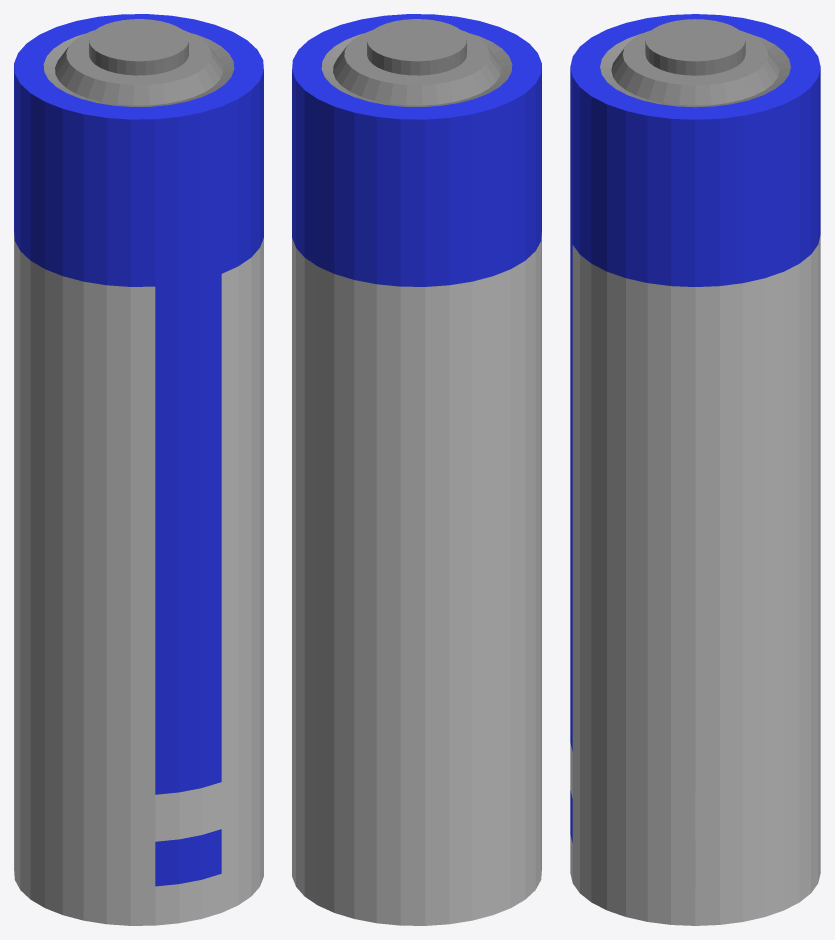
File: 1.5VBattery.glb
The picture shows the model from 3 angles, left to right: view 1: azimuth 30°, elevation 25°; view 2: azimuth 150°, elevation 25°; view 3: azimuth 270°, elevation 25°; orthographic projection.
Parts seen in each view (by area): view 1: 1.5V Battery, 1.5V Battery.001; view 2: 1.5V Battery, 1.5V Battery.001; view 3: 1.5V Battery, 1.5V Battery.001.
Boxes of the visible parts, x1,y1,x2,y2 form: 1.5V Battery: (14, 14, 263, 925); 1.5V Battery.001: (43, 19, 234, 106); 1.5V Battery: (292, 14, 541, 925); 1.5V Battery.001: (321, 19, 512, 106); 1.5V Battery: (570, 14, 820, 925); 1.5V Battery.001: (600, 19, 790, 107).
Bounding box in the file's own units: 0.1593 × 0.5847 × 0.1593.
